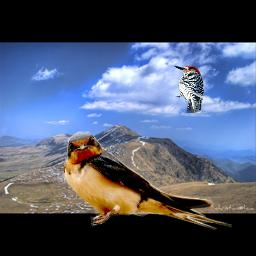Swallow: (61, 131, 232, 236)
Woodpecker: (172, 63, 205, 113)
